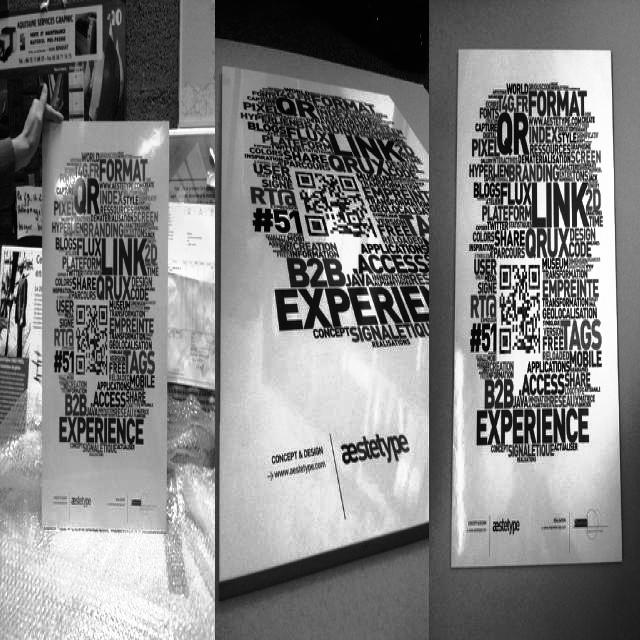qr_code: (295, 172, 378, 237), (499, 265, 540, 353), (76, 305, 107, 374)
